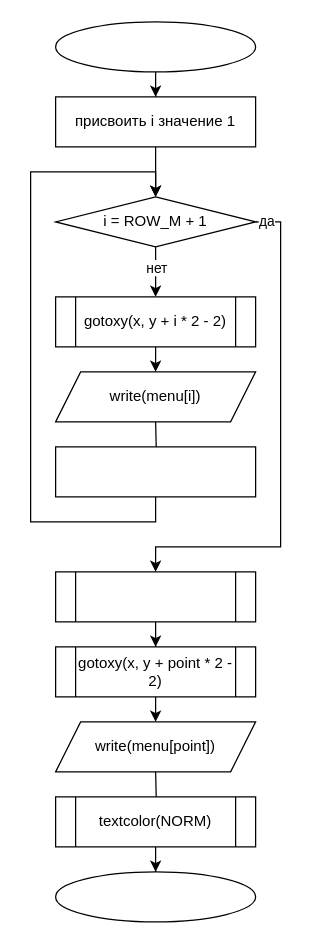
Some shapes in this 313 by 944 pixel diagram are drawn without their labels. Here are the shapes that lost their labels. From the top down, the box of each, then its label:
(54, 21, 256, 72): menutoscr начало
(54, 446, 256, 497): присвоить i значение i + 1
(54, 571, 256, 622): textcolor(SEL)
(54, 871, 256, 922): menutoscr конец
